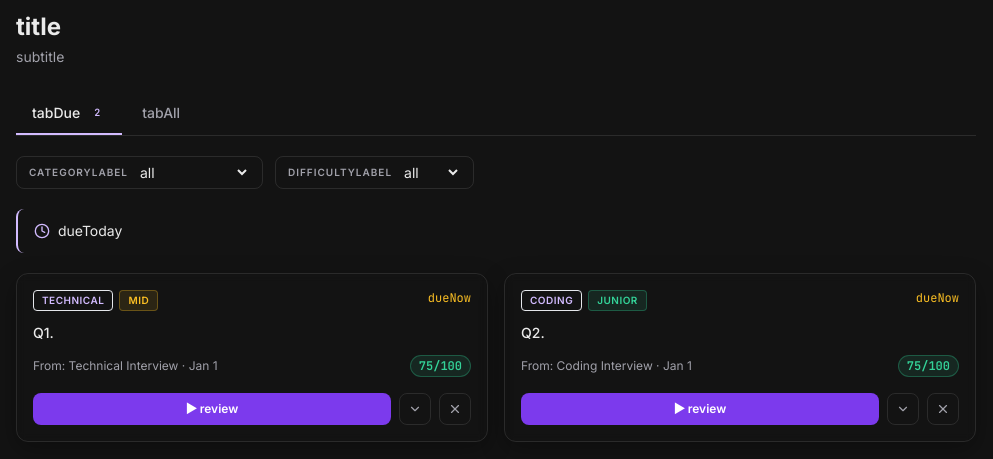
Scenario: BookmarksClient — clear filters › "clear filters" button resets category and difficulty
Click the button "tabAll".
click(161, 113)  # box [126, 93, 196, 133]
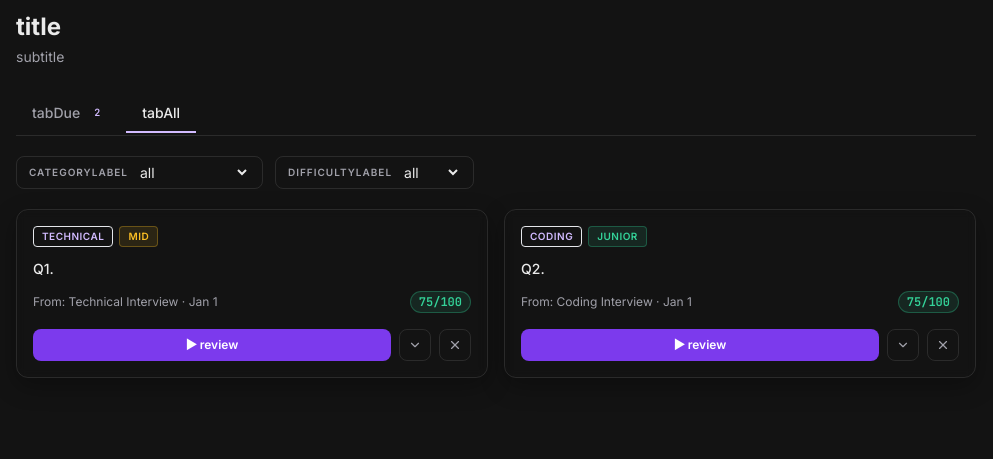
Select "coding" in the dropdown next to "categoryLabel" at (193, 172), box [136, 163, 250, 182]
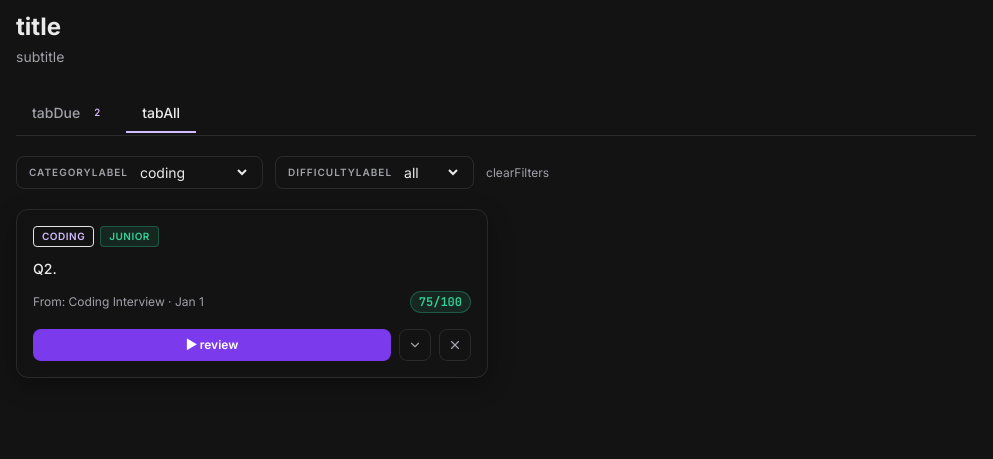
// "clear filters" button should now be visible
Click the button "clearFilters".
click(518, 172)  # box [486, 164, 549, 180]
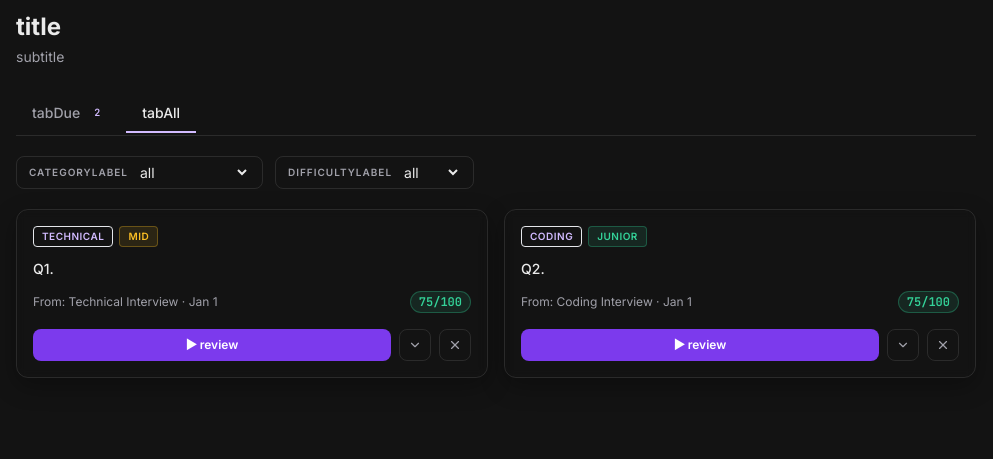
Expected: the text "Q2." is shown, [521, 260, 545, 277]
Result: the text "Q1." is shown at [33, 260, 54, 277]
Result: the button "clearFilters" is gone
